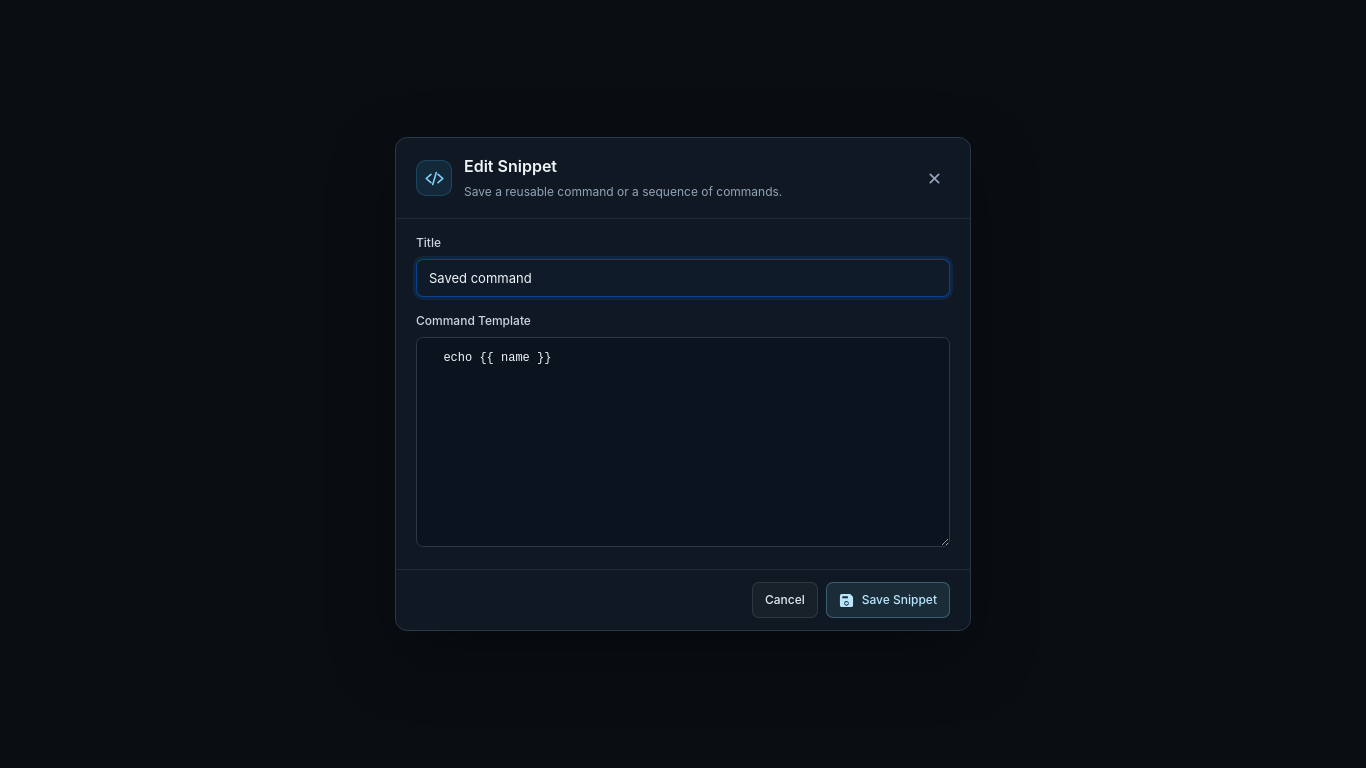
it: keeps failed input visible and clears the error when switching snippets
The image size is (1366, 768).
Replace the text in the field labelled "Title" with "Unsaved input" at (683, 278), box [416,259,950,297]
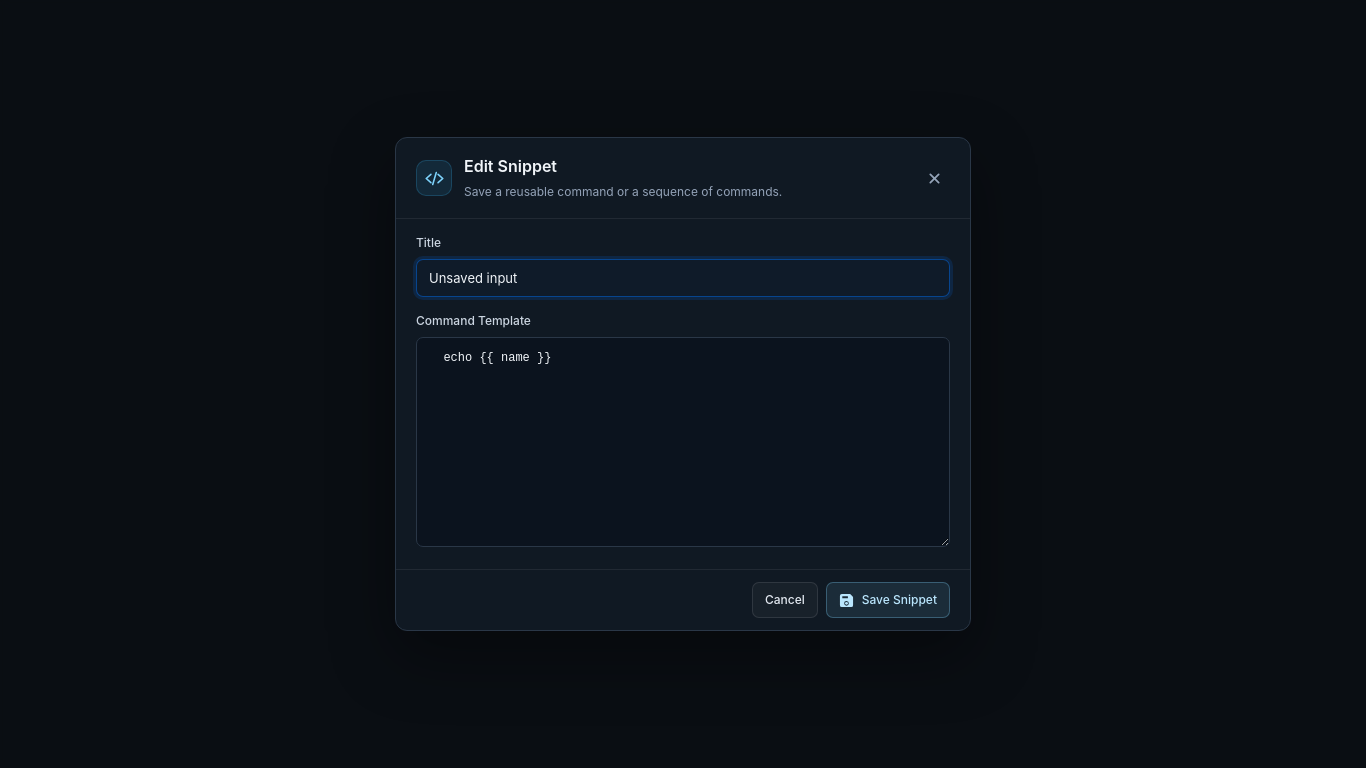
Click the button "Save Snippet" at (888, 600), box [826,582,950,618]
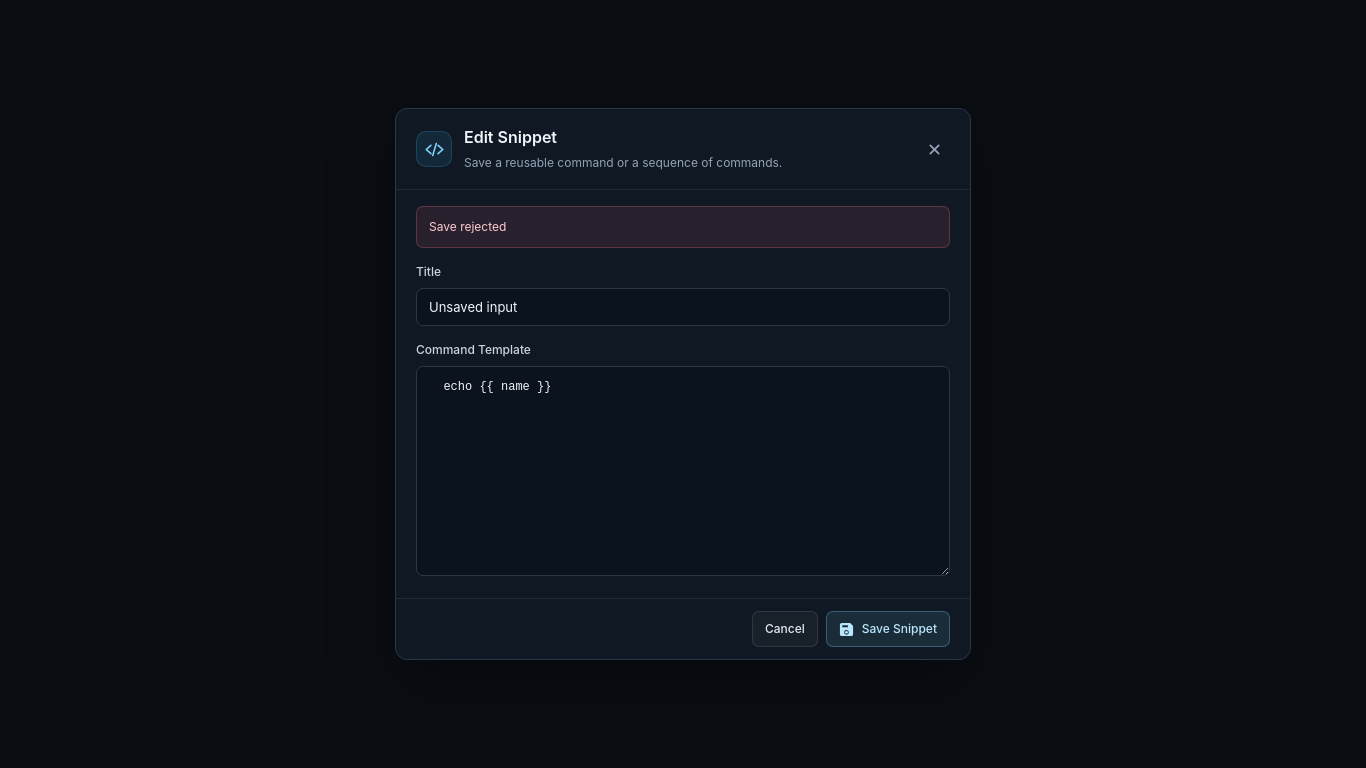
Now the text "Save rejected" is shown, box [416,206,950,248]
